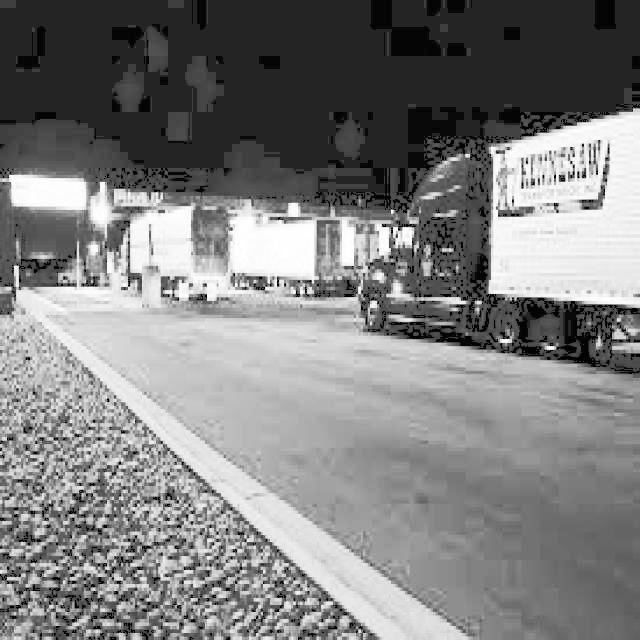Truck: (389, 105, 638, 364)
